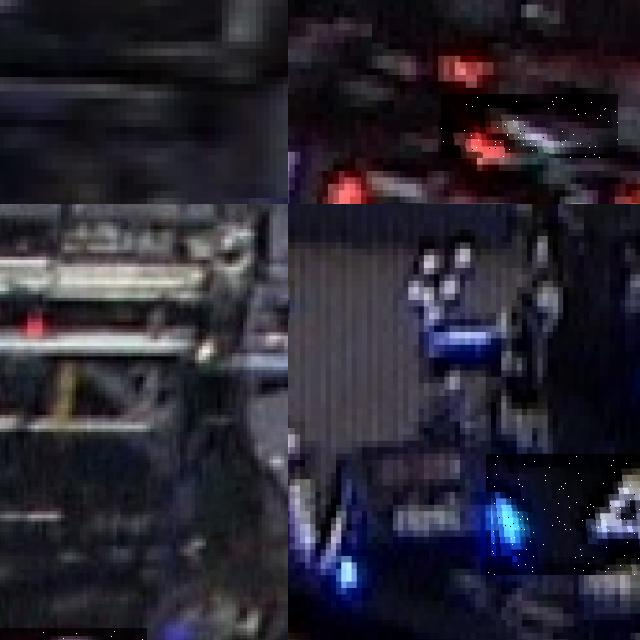B4: (485, 453, 640, 575)
R1: (441, 94, 618, 158), (288, 126, 380, 204), (504, 168, 640, 204)
